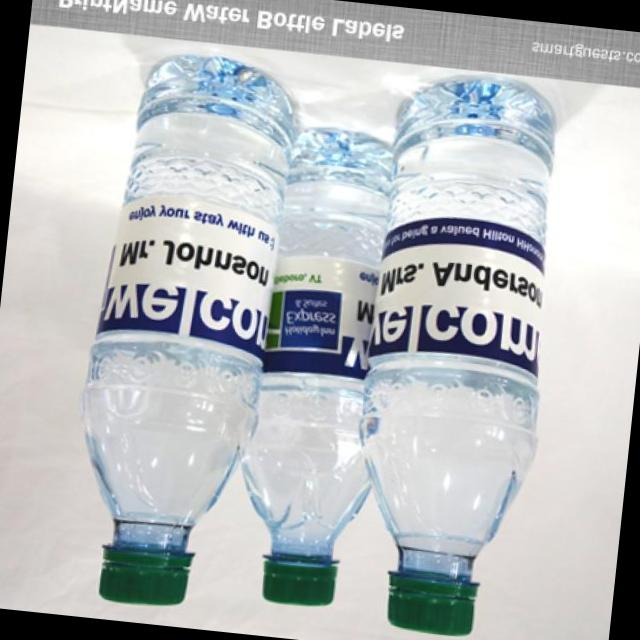plastic_bottle: (61, 46, 302, 616), (337, 68, 574, 640), (225, 122, 408, 612)
